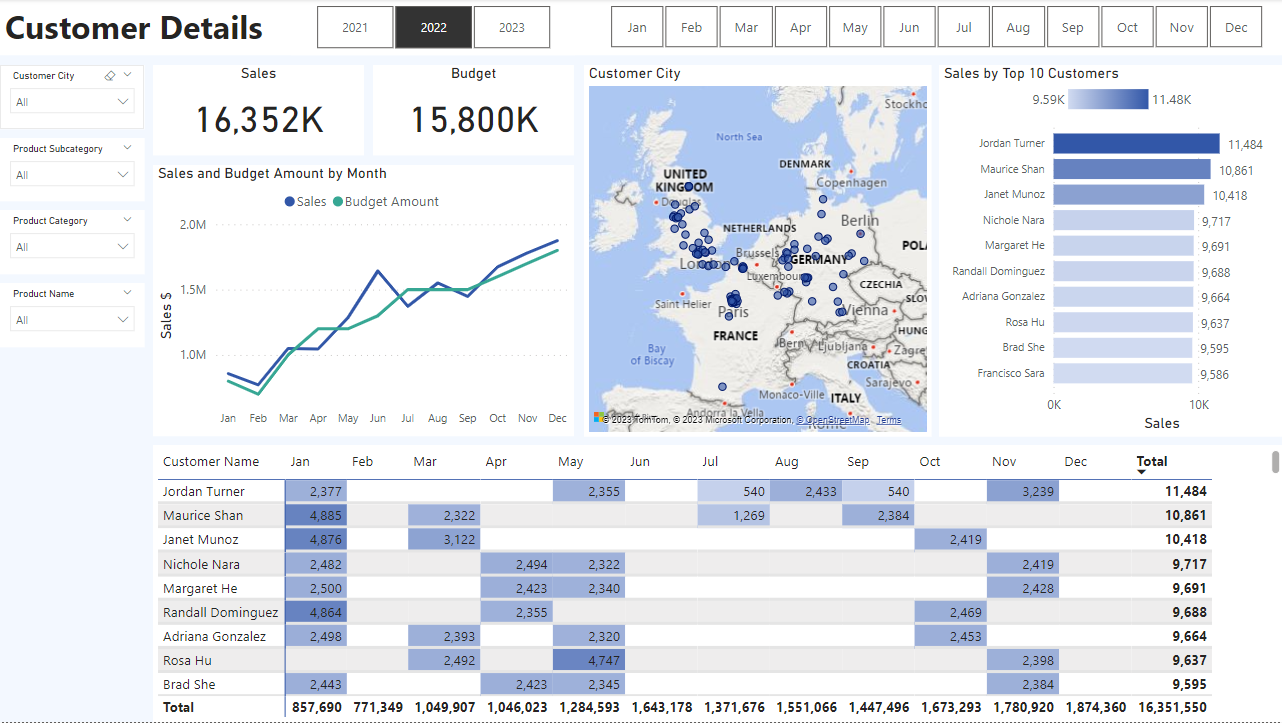

Layout of this report page (visuals, bound fields, positions):
{"tool":"powerbi","page":{"name":"Customer Details","canvas":[1280,720],"ordinal":1},"visuals":[{"type":"textbox","box":[0,0,1280,55.6],"z":0},{"type":"slicer","fields":{"Values":["DIM_Customer.Customer City"]},"box":[0,65.5,143.6,63.6],"z":1000},{"type":"slicer","fields":{"Values":["DIM_Products.ProductSubcategory"]},"box":[0,138.2,143.6,62.7],"z":2000},{"type":"slicer","fields":{"Values":["DIM_Products.ProductCategory"]},"box":[0,210,143.6,63.6],"z":3000},{"type":"slicer","fields":{"Values":["DIM_Products.ProductName"]},"box":[0,282.7,143.6,63.6],"z":4000},{"type":"slicer","fields":{"Values":["DIM_Calender.Year"]},"box":[290,0,282,55.9],"z":5000},{"type":"lineChart","fields":{"Y":["Key Measures.Sales","Key Measures.Budget Amount"],"Category":["DIM_Calender.MonthShort"]},"box":[152.5,164.9,419.4,270.4],"z":6000},{"type":"slicer","fields":{"Values":["DIM_Calender.MonthShort"]},"box":[581.8,0,698.2,55.5],"z":7000},{"type":"barChart","title":"Sales by Top 10 Customers","fields":{"Y":["Key Measures.Sales"],"Category":["DIM_Customer.FullName"]},"box":[935.1,65.6,344.9,369.8],"z":8000},{"type":"map","fields":{"Category":["DIM_Customer.Customer City"]},"box":[580.8,65.6,345.8,369.8],"z":9000},{"type":"kpi","title":"Sales","fields":{"Indicator":["Fact_InternetSales.SalesAmount"],"TrendLine":["DIM_Calender.Year"]},"box":[152.5,65.6,210.1,90.4],"z":10000},{"type":"kpi","title":"Budget","fields":{"Indicator":["Fact_Budget.Budget"],"TrendLine":["DIM_Calender.Year"]},"box":[371.5,65.6,200.4,90.4],"z":11000},{"type":"pivotTable","title":"Customer Sales","fields":{"Rows":["DIM_Customer.FullName"],"Values":["Key Measures.Sales"],"Columns":["DIM_Calender.MonthShort"]},"box":[152.5,444.2,1127,275.8],"z":12000}]}

Visuals, with their boxes in screenshot pixels (x1, y1, x2, y2), scaled from the page's 1280x720 canvas onto the 1282x723 screenshot:
textbox: 0,0,1281,56
slicer - DIM_Customer.Customer City: 0,66,144,130
slicer - DIM_Products.ProductSubcategory: 0,139,144,202
slicer - DIM_Products.ProductCategory: 0,211,144,275
slicer - DIM_Products.ProductName: 0,284,144,348
slicer - DIM_Calender.Year: 290,0,573,56
lineChart - Key Measures.Sales x Key Measures.Budget Amount: 153,166,573,437
slicer - DIM_Calender.MonthShort: 583,0,1281,56
"Sales by Top 10 Customers" barChart: 937,66,1281,437
map - DIM_Customer.Customer City: 582,66,928,437
"Sales" kpi: 153,66,363,157
"Budget" kpi: 372,66,573,157
"Customer Sales" pivotTable: 153,446,1281,722
